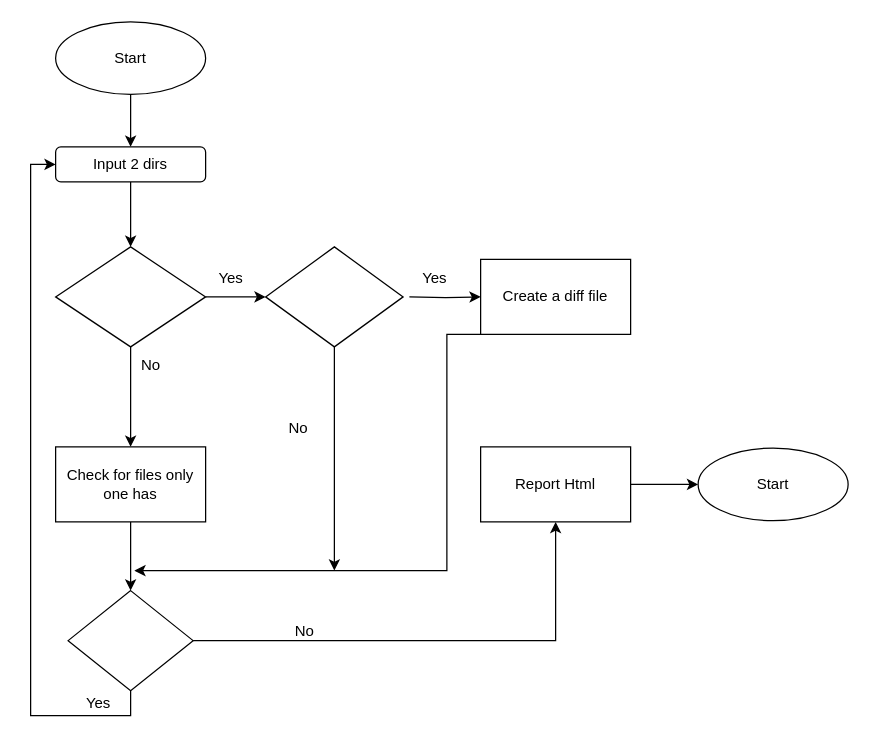
Image size: 870x748. Some labels were removed from this diagram. The shapes that lost their labels are listed below. From the top down, each one's box as (x1, y1, x2, y2) in pixels, then its label:
(54, 246, 206, 347): 2 dirs have files with the same name
(264, 246, 403, 347): Different text
(67, 589, 193, 691): Any dirs
